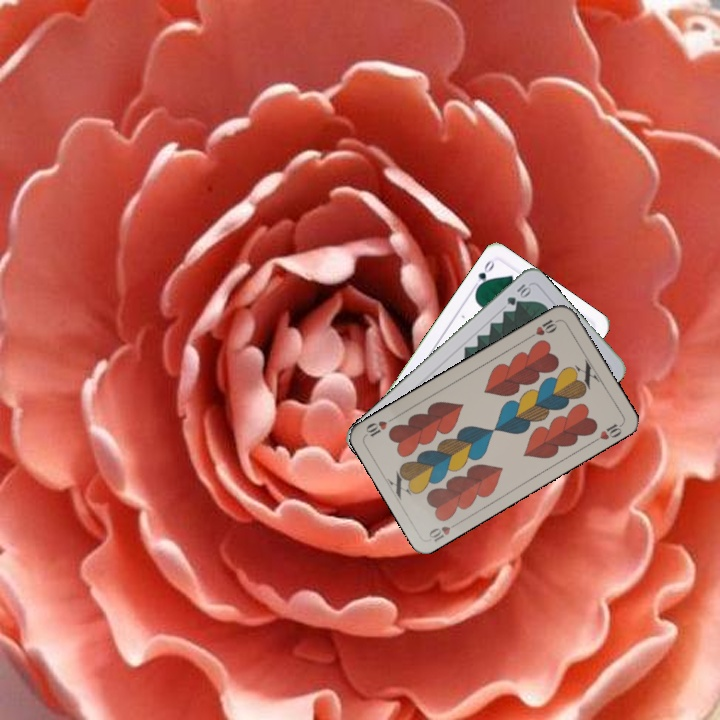G10: (503, 280, 533, 308)
GO: (472, 256, 497, 293)
H10: (425, 517, 463, 544), (525, 315, 562, 341)
